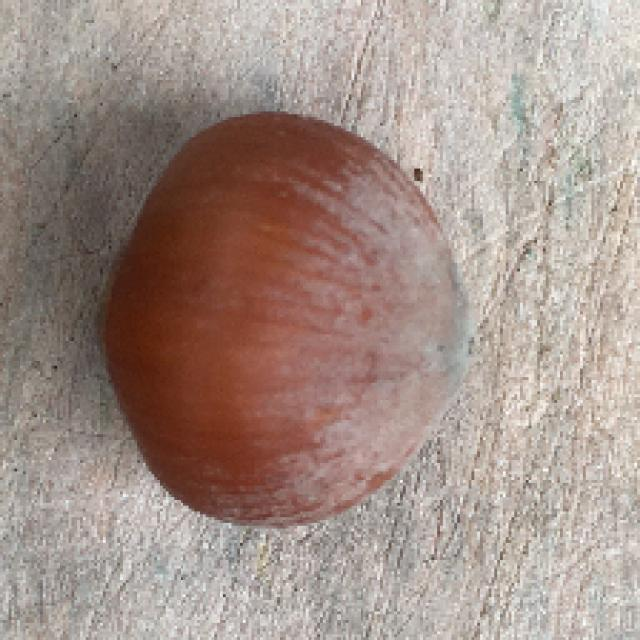QualityHazelnut: (95, 108, 469, 524)
